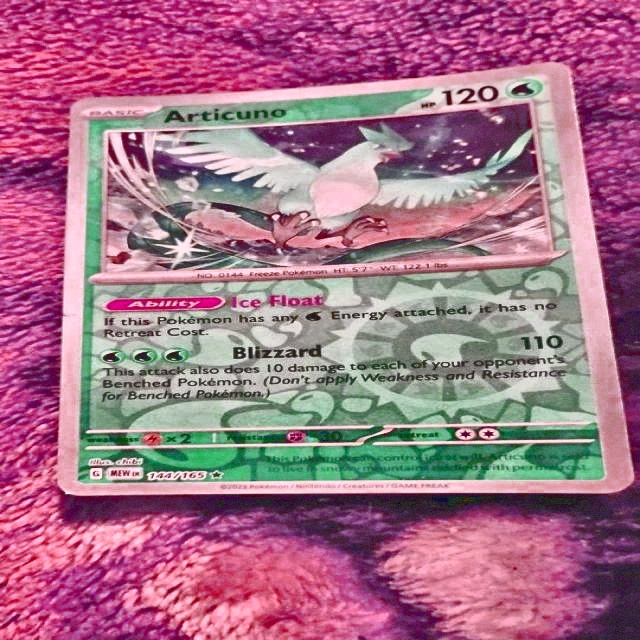card: (56, 62, 637, 498)
